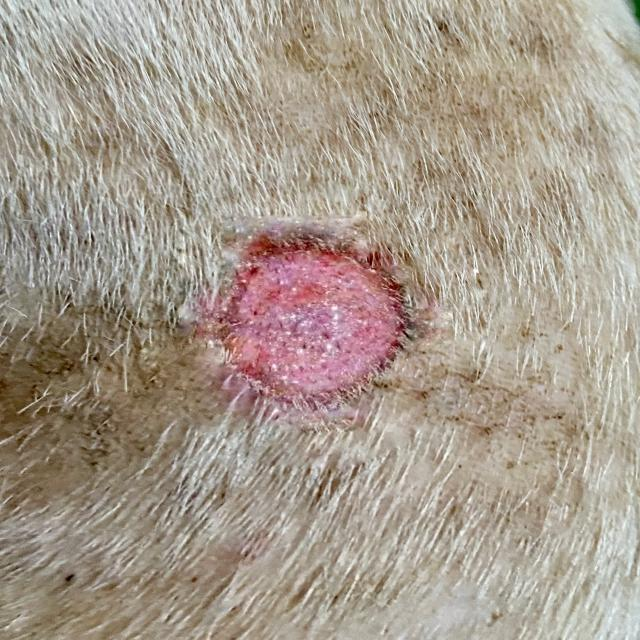ringworm: (205, 229, 433, 416)
